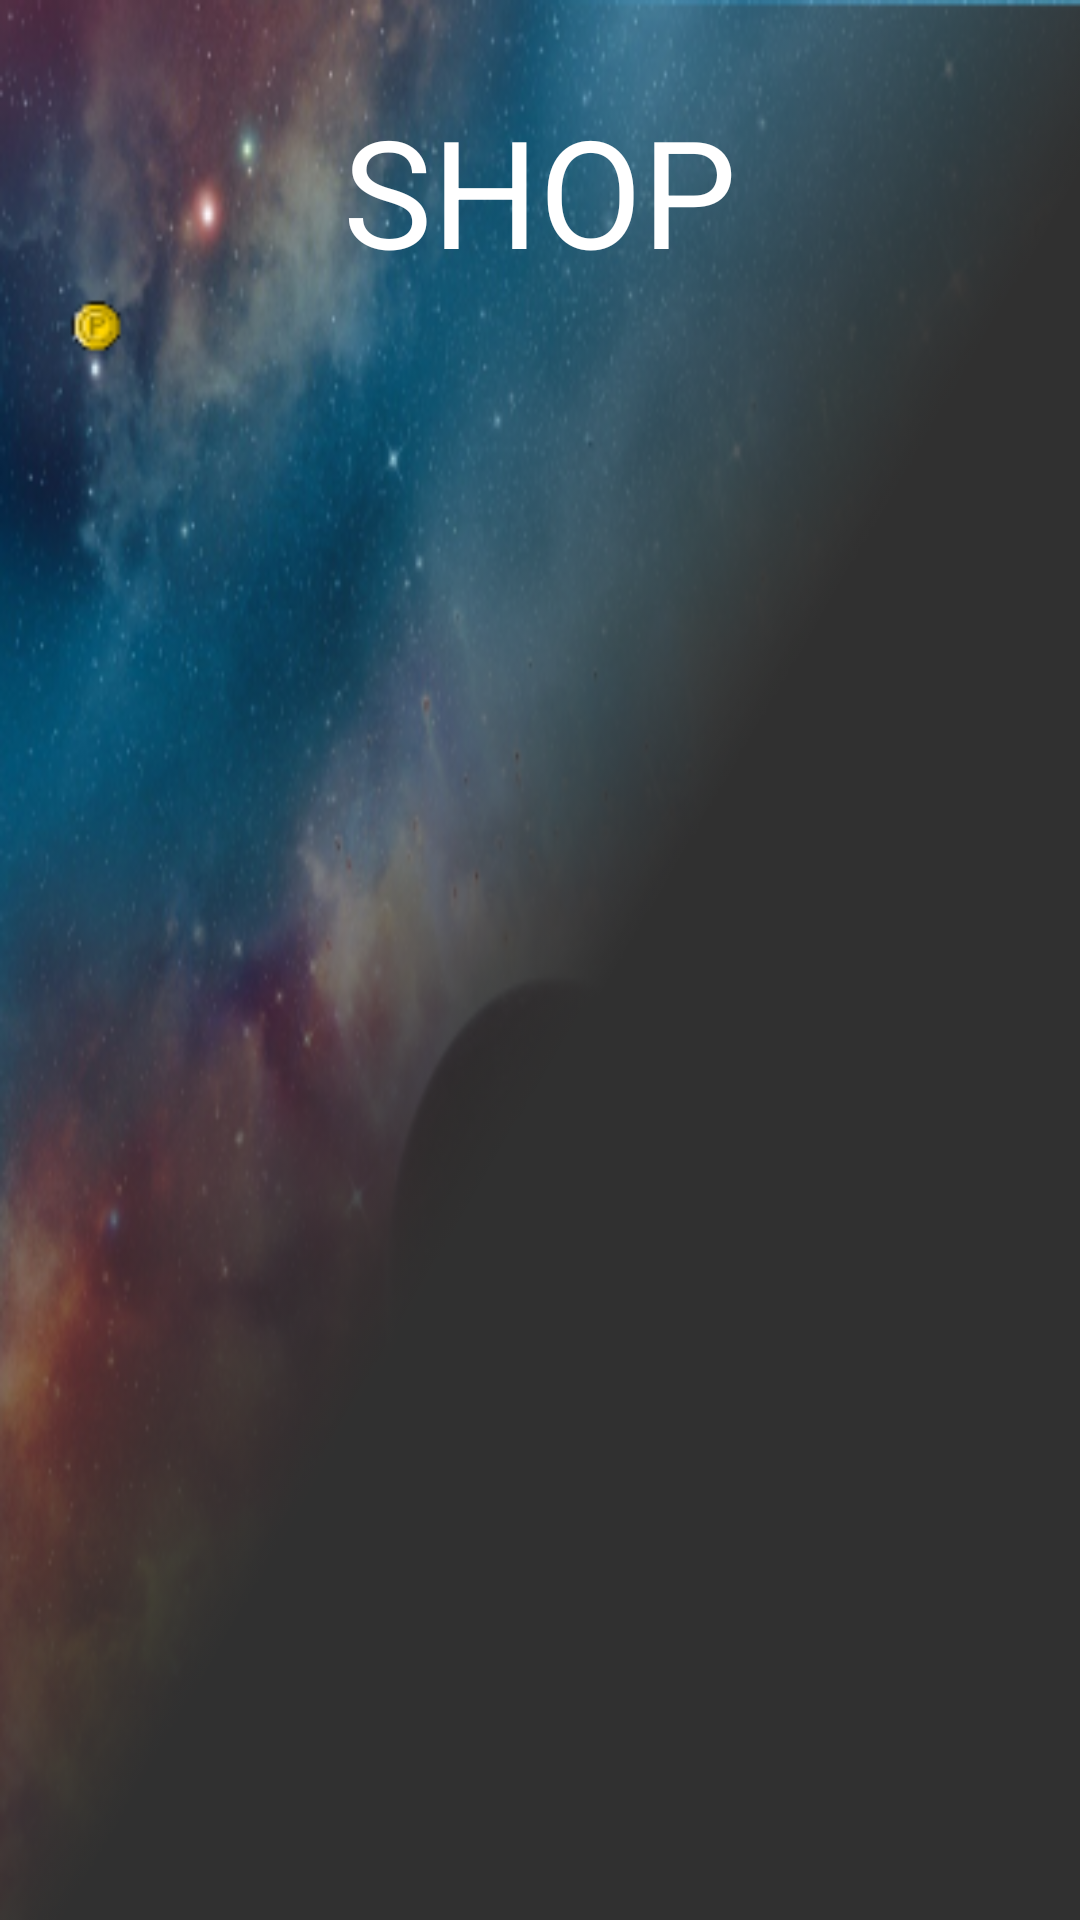

Screen size 1080w x 1920h. Icon name, then its center in pixels as (x=x, y=y):
coin: (x=97, y=327)
